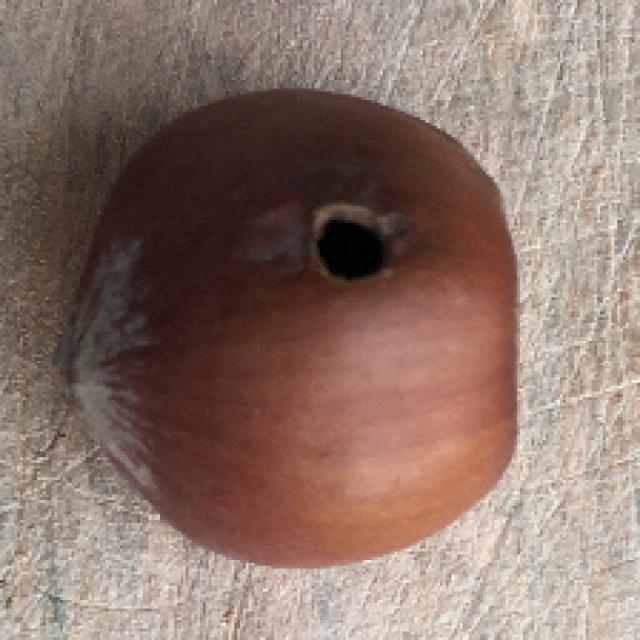damagedHazelnut: (44, 85, 530, 568)
